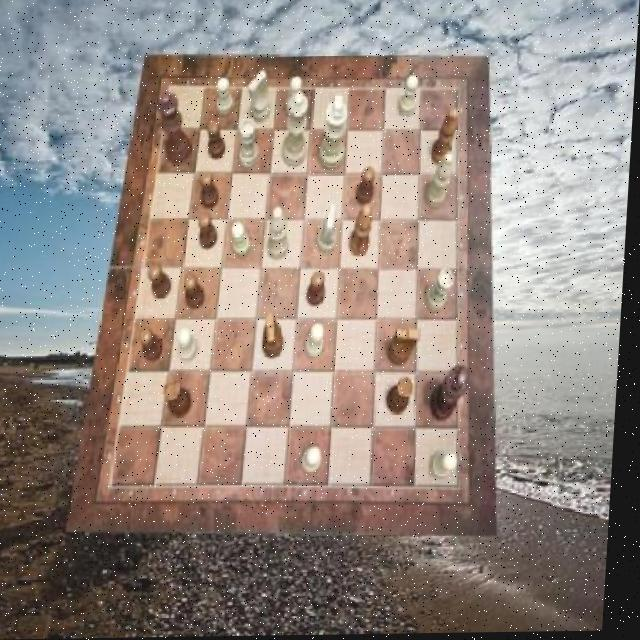bishop: (432, 110, 461, 168), (352, 206, 377, 259)
black-bishop: (435, 367, 475, 423)
black-king: (392, 329, 423, 367), (266, 313, 289, 359)
black-knight: (150, 264, 176, 299), (142, 327, 167, 362), (208, 122, 230, 161), (201, 173, 223, 210), (187, 274, 210, 309), (201, 213, 222, 250), (358, 168, 377, 206), (310, 271, 329, 306)
black-pawn: (157, 92, 197, 166)
black-queen: (168, 381, 199, 419), (391, 378, 420, 416)
black-rook: (429, 153, 456, 208), (271, 207, 294, 261)
white-bishop: (319, 94, 350, 171)
white-king: (246, 71, 273, 123), (318, 205, 342, 255)
white-knight: (401, 77, 420, 119), (216, 79, 235, 118), (234, 223, 255, 258), (287, 78, 305, 118), (182, 327, 203, 361), (436, 453, 464, 478), (309, 324, 328, 358), (307, 448, 328, 474)
white-pawn: (284, 93, 311, 168)
white-queen: (428, 270, 458, 313), (239, 122, 262, 169)
